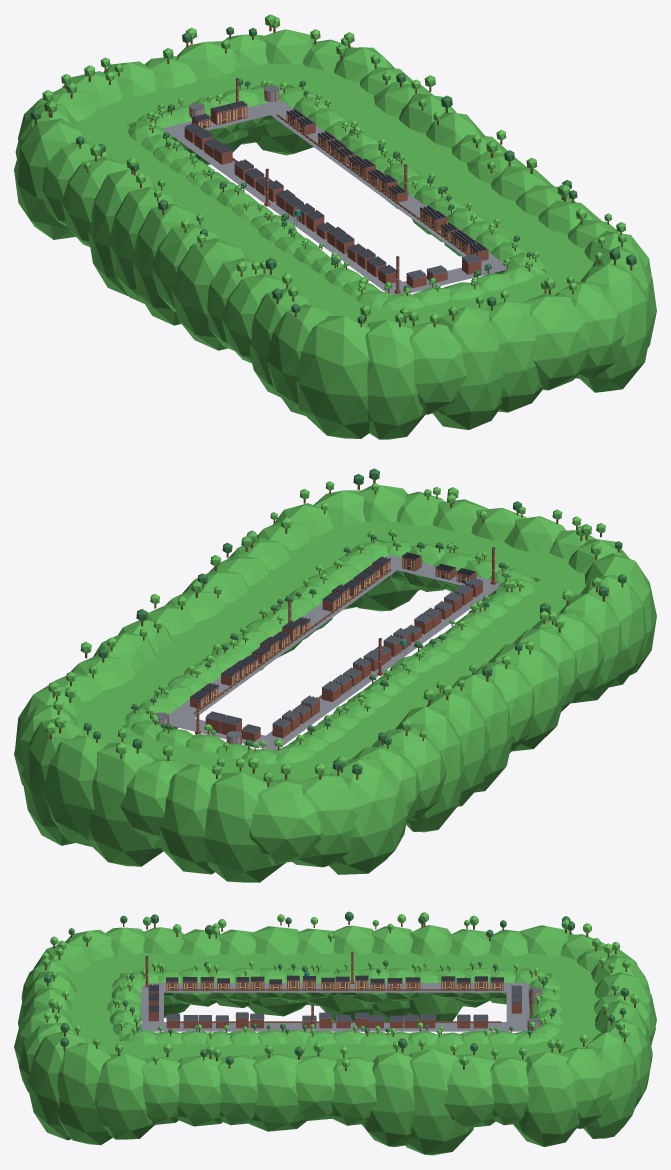
Rendered from CatCafe_Sewer_BackdropF85.glb.
The picture shows the model from 3 angles, top to bottom: view 1: azimuth 30°, elevation 25°; view 2: azimuth 150°, elevation 25°; view 3: azimuth 270°, elevation 25°; orthographic projection. The views are drawn at different scales.
Parts seen in each view (by area): view 1: CatCafe_Sewer_BackdropF85_HillsFar, CatCafe_Sewer_BackdropF85_Ground, CatCafe_Sewer_BackdropF85, CatCafe_Sewer_BackdropF85_Hills, CatCafe_Sewer_BackdropF85_Road, CatCafe_Sewer_BackdropF85_Bulbs; view 2: CatCafe_Sewer_BackdropF85_HillsFar, CatCafe_Sewer_BackdropF85_Ground, CatCafe_Sewer_BackdropF85, CatCafe_Sewer_BackdropF85_Hills, CatCafe_Sewer_BackdropF85_Road, CatCafe_Sewer_BackdropF85_Bulbs; view 3: CatCafe_Sewer_BackdropF85_HillsFar, CatCafe_Sewer_BackdropF85_Ground, CatCafe_Sewer_BackdropF85, CatCafe_Sewer_BackdropF85_Hills, CatCafe_Sewer_BackdropF85_Road, CatCafe_Sewer_BackdropF85_Bulbs.
Part boxes in pixels (x1,y1,x2,y2): CatCafe_Sewer_BackdropF85_HillsFar: [14, 29, 656, 439]; CatCafe_Sewer_BackdropF85_Ground: [76, 63, 593, 327]; CatCafe_Sewer_BackdropF85: [30, 14, 636, 327]; CatCafe_Sewer_BackdropF85_Hills: [128, 85, 545, 312]; CatCafe_Sewer_BackdropF85_Road: [163, 100, 508, 294]; CatCafe_Sewer_BackdropF85_Bulbs: [198, 108, 477, 254]; CatCafe_Sewer_BackdropF85_HillsFar: [14, 485, 656, 882]; CatCafe_Sewer_BackdropF85_Ground: [74, 521, 586, 781]; CatCafe_Sewer_BackdropF85: [45, 468, 626, 786]; CatCafe_Sewer_BackdropF85_Hills: [123, 540, 535, 765]; CatCafe_Sewer_BackdropF85_Road: [169, 555, 499, 750]; CatCafe_Sewer_BackdropF85_Bulbs: [201, 559, 469, 706]; CatCafe_Sewer_BackdropF85_HillsFar: [14, 925, 656, 1155]; CatCafe_Sewer_BackdropF85_Ground: [69, 952, 601, 1061]; CatCafe_Sewer_BackdropF85: [42, 911, 639, 1070]; CatCafe_Sewer_BackdropF85_Hills: [107, 967, 562, 1045]; CatCafe_Sewer_BackdropF85_Road: [141, 983, 529, 1031]; CatCafe_Sewer_BackdropF85_Bulbs: [166, 982, 503, 989].
Bounding box in the file's own units: 649 × 232 × 1132.
1 material, 1 textured.
